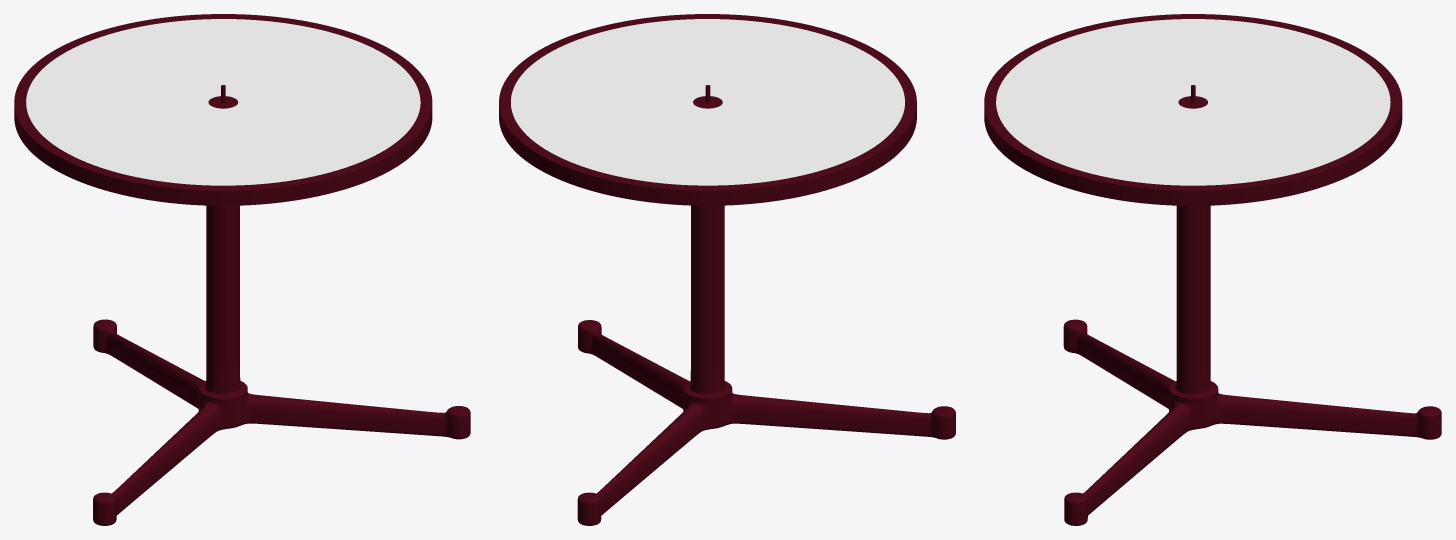
The model's file is Force_Table_Scaled2.fbx.
The picture shows the model from 3 angles, left to right: view 1: azimuth 30°, elevation 25°; view 2: azimuth 150°, elevation 25°; view 3: azimuth 270°, elevation 25°; orthographic projection.
Visible parts, largest first — view 1: Force Table; view 2: Force Table; view 3: Force Table.
Boxes of the visible parts, x1=… form: Force Table: x1=14, y1=14, x2=470, y2=525; Force Table: x1=499, y1=14, x2=955, y2=525; Force Table: x1=984, y1=14, x2=1441, y2=525.
Size of the model in its own units: 0.5189 by 0.5486 by 0.4635.
2 materials, 1 textured.
